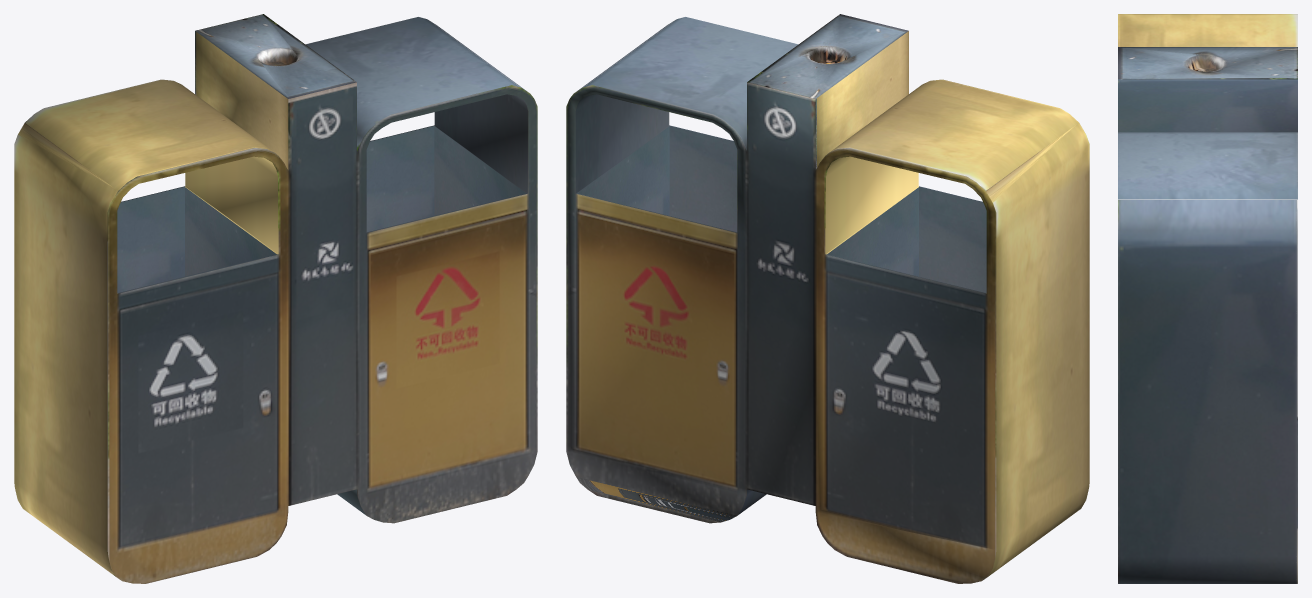
File: lajitong_park.gltf
3 views of the same model, side by side, from view 1: azimuth 30°, elevation 25°; view 2: azimuth 150°, elevation 25°; view 3: azimuth 270°, elevation 25° (orthographic). The views are drawn at different scales.
Visible parts, largest first — view 1: lajitong03; view 2: lajitong03; view 3: lajitong03.
Part boxes in pixels (x1,y1,x2,y2): lajitong03: (14, 14, 537, 583); lajitong03: (566, 14, 1089, 583); lajitong03: (1118, 14, 1297, 583).
Size of the model in its own units: 1.2 by 1.2 by 0.4512.
Materials: 1 (1 with a texture image).
